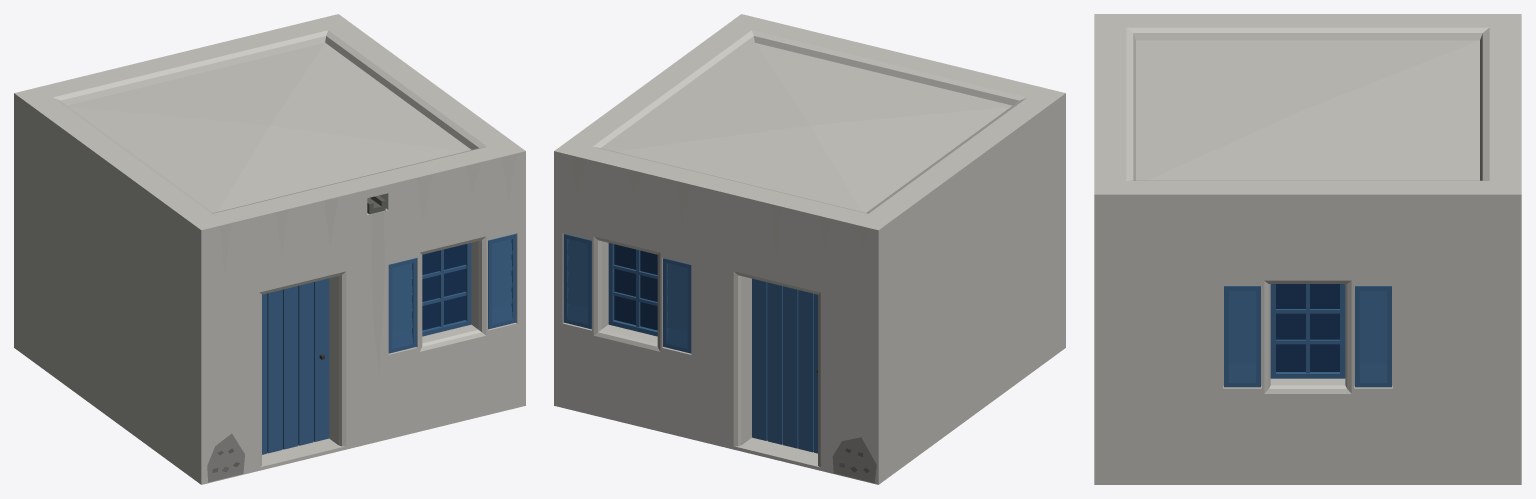
Rendered from cube-house-module-a9b8e8.glb.
3 views of the same model, side by side, from view 1: azimuth 30°, elevation 25°; view 2: azimuth 150°, elevation 25°; view 3: azimuth 270°, elevation 25° (orthographic). The views are drawn at different scales.
Visible parts, largest first — view 1: house; view 2: house; view 3: house.
Part boxes in pixels (x1=…): house: x1=14, y1=14, x2=525, y2=484; house: x1=554, y1=14, x2=1065, y2=484; house: x1=1094, y1=14, x2=1521, y2=484.
Size of the model in its own units: 4 by 3 by 4.
